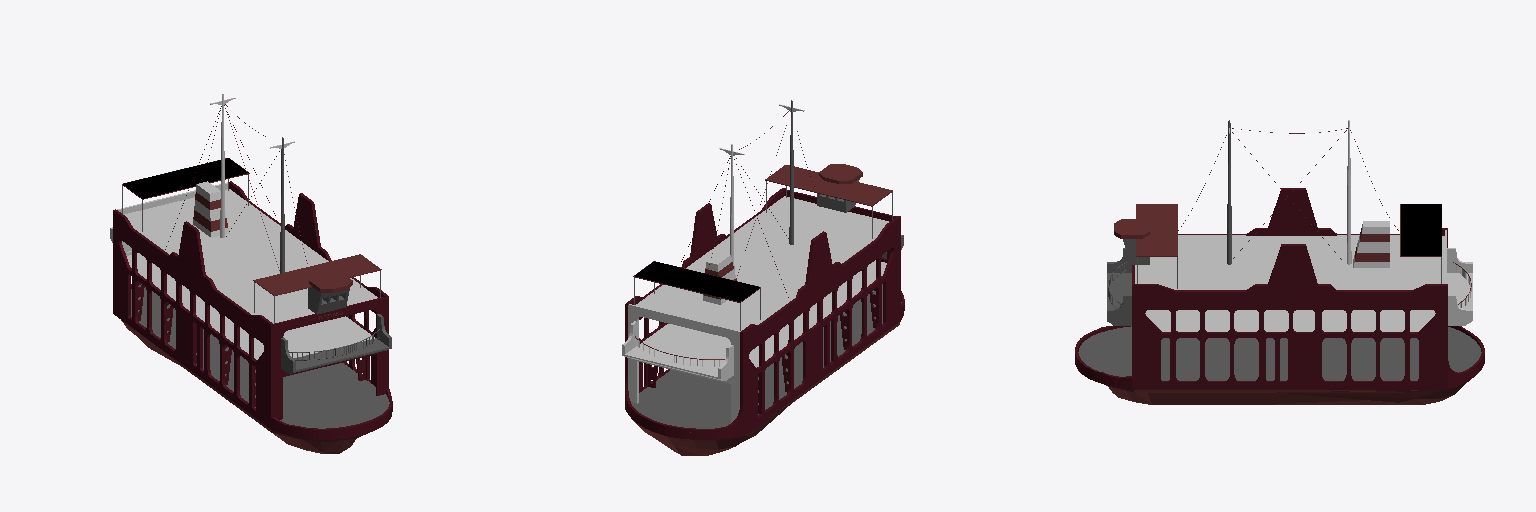
Rendered from transporter.obj.
3 renders of one model, left to right at view 1: azimuth 30°, elevation 25°; view 2: azimuth 150°, elevation 25°; view 3: azimuth 270°, elevation 25°, orthographic.
Bounding box in the file's own units: 2.39 × 5.27 × 7.19.